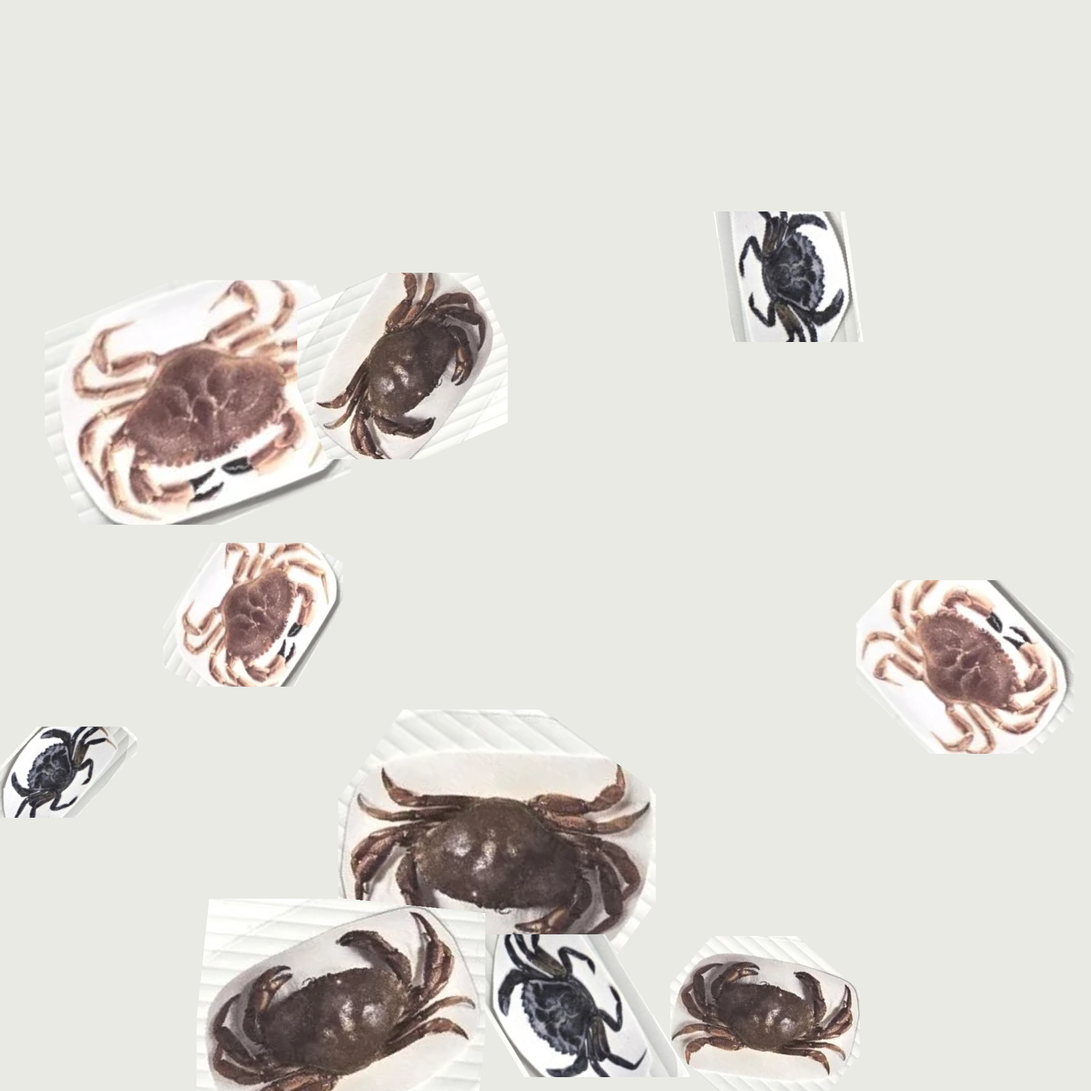evil: (496, 936, 651, 1075), (720, 207, 863, 345), (9, 729, 128, 822)
normal: (343, 760, 645, 934), (64, 322, 319, 503), (207, 938, 474, 1091), (857, 583, 1081, 760), (324, 259, 498, 471), (674, 957, 874, 1086), (184, 550, 341, 701)
